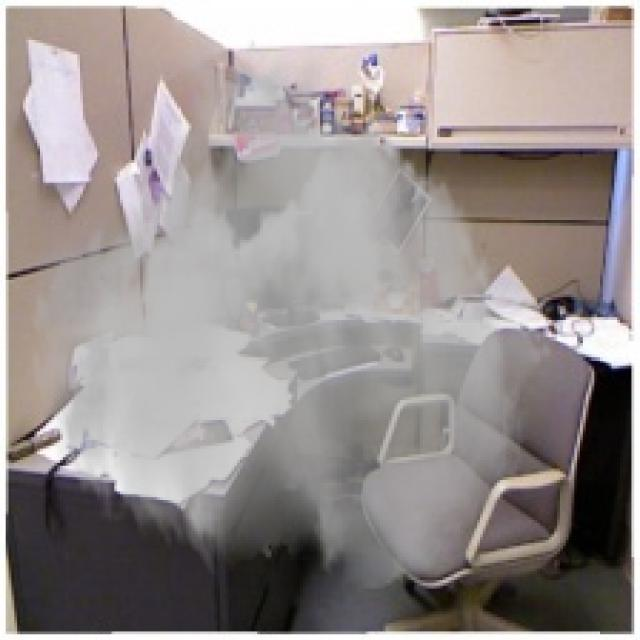smoke: (26, 34, 554, 594)
